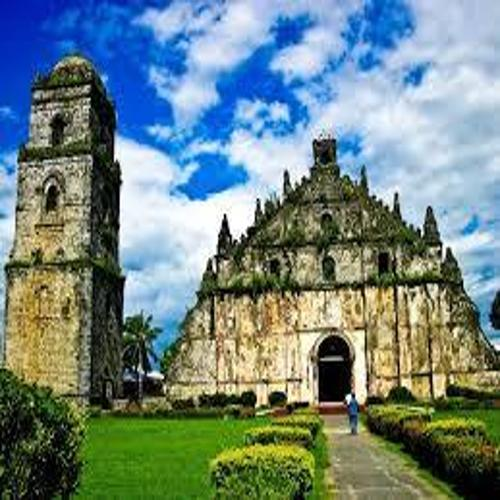Paoay Church: (5, 49, 495, 405)
